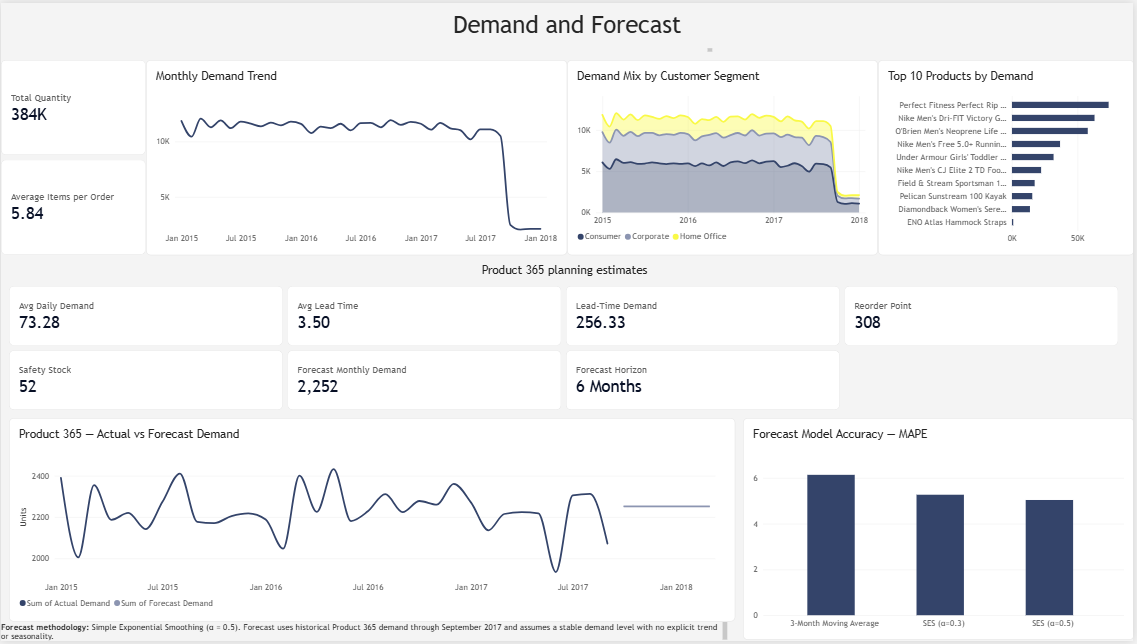

The page's visual inventory and layout, read from the dashboard file:
{"tool":"powerbi","page":{"name":"Demand and Forecast","canvas":[1920,1080],"ordinal":1},"visuals":[{"type":"cardVisual","fields":{"Data":["order_items.Total Quantity","order_items.Average Items per Order"]},"box":[0,96.6,245.8,330.5],"z":0},{"type":"lineChart","title":"Product 365 — Actual vs Forecast Demand","fields":{"Category":["product_365_actual_forecast.Month.Variation.Date Hierarchy.Year","product_365_actual_forecast.Month.Variation.Date Hierarchy.Month"],"Y":["Sum(product_365_actual_forecast.Actual Demand)","Sum(product_365_actual_forecast.Forecast Demand)"]},"box":[13.6,703.4,1231.5,344.9],"z":0,"group":"g1"},{"type":"lineChart","title":"Monthly Demand Trend","fields":{"Category":["orders.order date (DateOrders).Variation.Date Hierarchy.Year","orders.order date (DateOrders).Variation.Date Hierarchy.Month"],"Y":["order_items.Total Quantity"]},"box":[245.8,96.6,713.6,330.5],"z":1000},{"type":"textbox","box":[0,1049,1231.5,31.5],"z":1000,"group":"g1"},{"type":"stackedAreaChart","title":"Demand Mix by Customer Segment","fields":{"Category":["orders.order date (DateOrders).Variation.Date Hierarchy.Year","orders.order date (DateOrders).Variation.Date Hierarchy.Month"],"Series":["customers.Customer Segment"],"Y":["order_items.Total Quantity"]},"box":[959.3,96.6,527.1,330.5],"z":2000},{"type":"clusteredBarChart","title":"Top 10 Products by Demand","fields":{"Category":["products.Product Name"],"Y":["order_items.Total Quantity"]},"box":[1486.4,96.6,433.9,330.5],"z":3000},{"type":"group","id":"g1","title":"Group 1","box":[0,703.4,1245.8,376.3],"z":4000},{"type":"clusteredColumnChart","title":"Forecast Model Accuracy — MAPE","fields":{"Category":["forecast_model_comparison.Model"],"Y":["Sum(forecast_model_comparison.MAPE)"]},"box":[1257.6,703.4,662.7,376.3],"z":7000},{"type":"cardVisual","title":"Product 365 planning estimates","fields":{"Data":["customers.Product 365 Avg Daily Demand","customers.Product 365 Avg Lead Time","customers.Product 365 Lead-Time Demand","customers.Product 365 Reorder Point","customers.Product 365 Safety Stock","customers.Forecast Monthly Demand","customers.Forecast Horizon"]},"box":[13.6,440.7,1883.1,250.8],"z":8000},{"type":"textbox","title":"Demand and Forecast","box":[713.6,13.6,491.5,69.5],"z":9000}]}

Visuals, with their boxes in screenshot pixels (x1, y1, x2, y2), scaled from the page's 1920x1080 canvas onto the 1137x644 screenshot:
cardVisual - order_items.Total Quantity x order_items.Average Items per Order: 0:58:146:255
"Product 365 — Actual vs Forecast Demand" lineChart: 8:419:737:625
"Monthly Demand Trend" lineChart: 146:58:568:255
textbox: 0:626:729:643
"Demand Mix by Customer Segment" stackedAreaChart: 568:58:880:255
"Top 10 Products by Demand" clusteredBarChart: 880:58:1136:255
"Group 1" group: 0:419:738:643
"Forecast Model Accuracy — MAPE" clusteredColumnChart: 745:419:1136:643
"Product 365 planning estimates" cardVisual: 8:263:1123:412
"Demand and Forecast" textbox: 423:8:714:50
